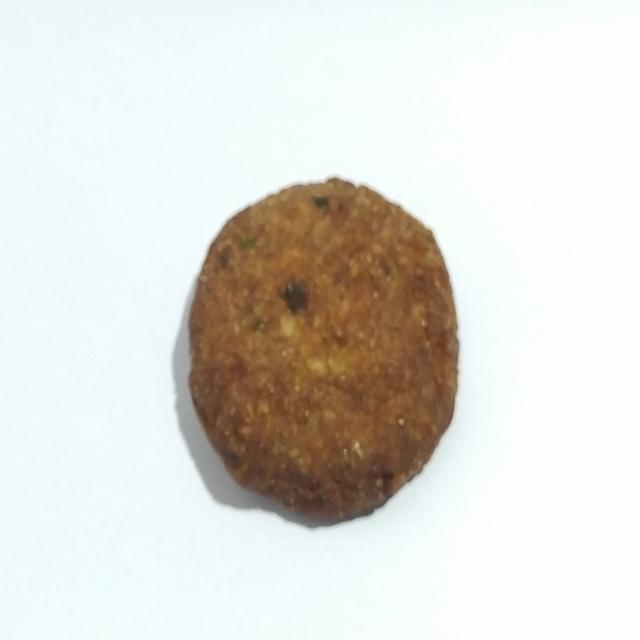Food: (176, 160, 466, 529)
